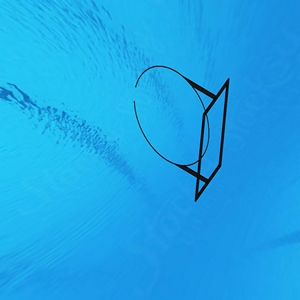circle: (131, 59, 229, 205)
